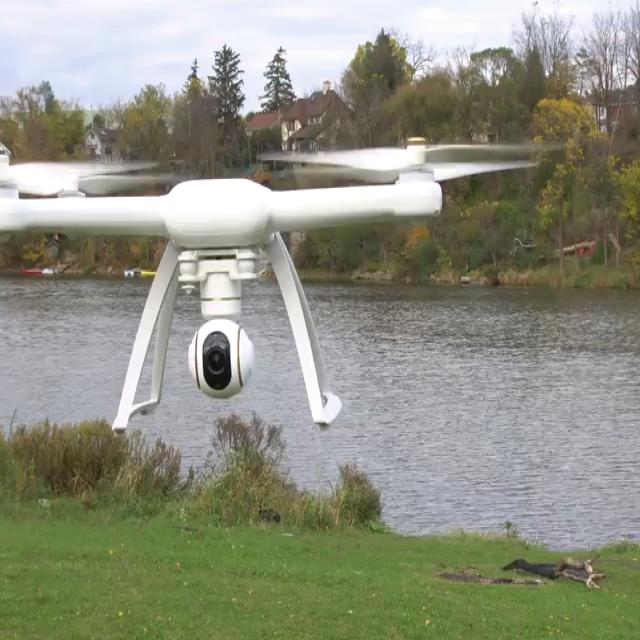drone: (0, 123, 555, 268)
